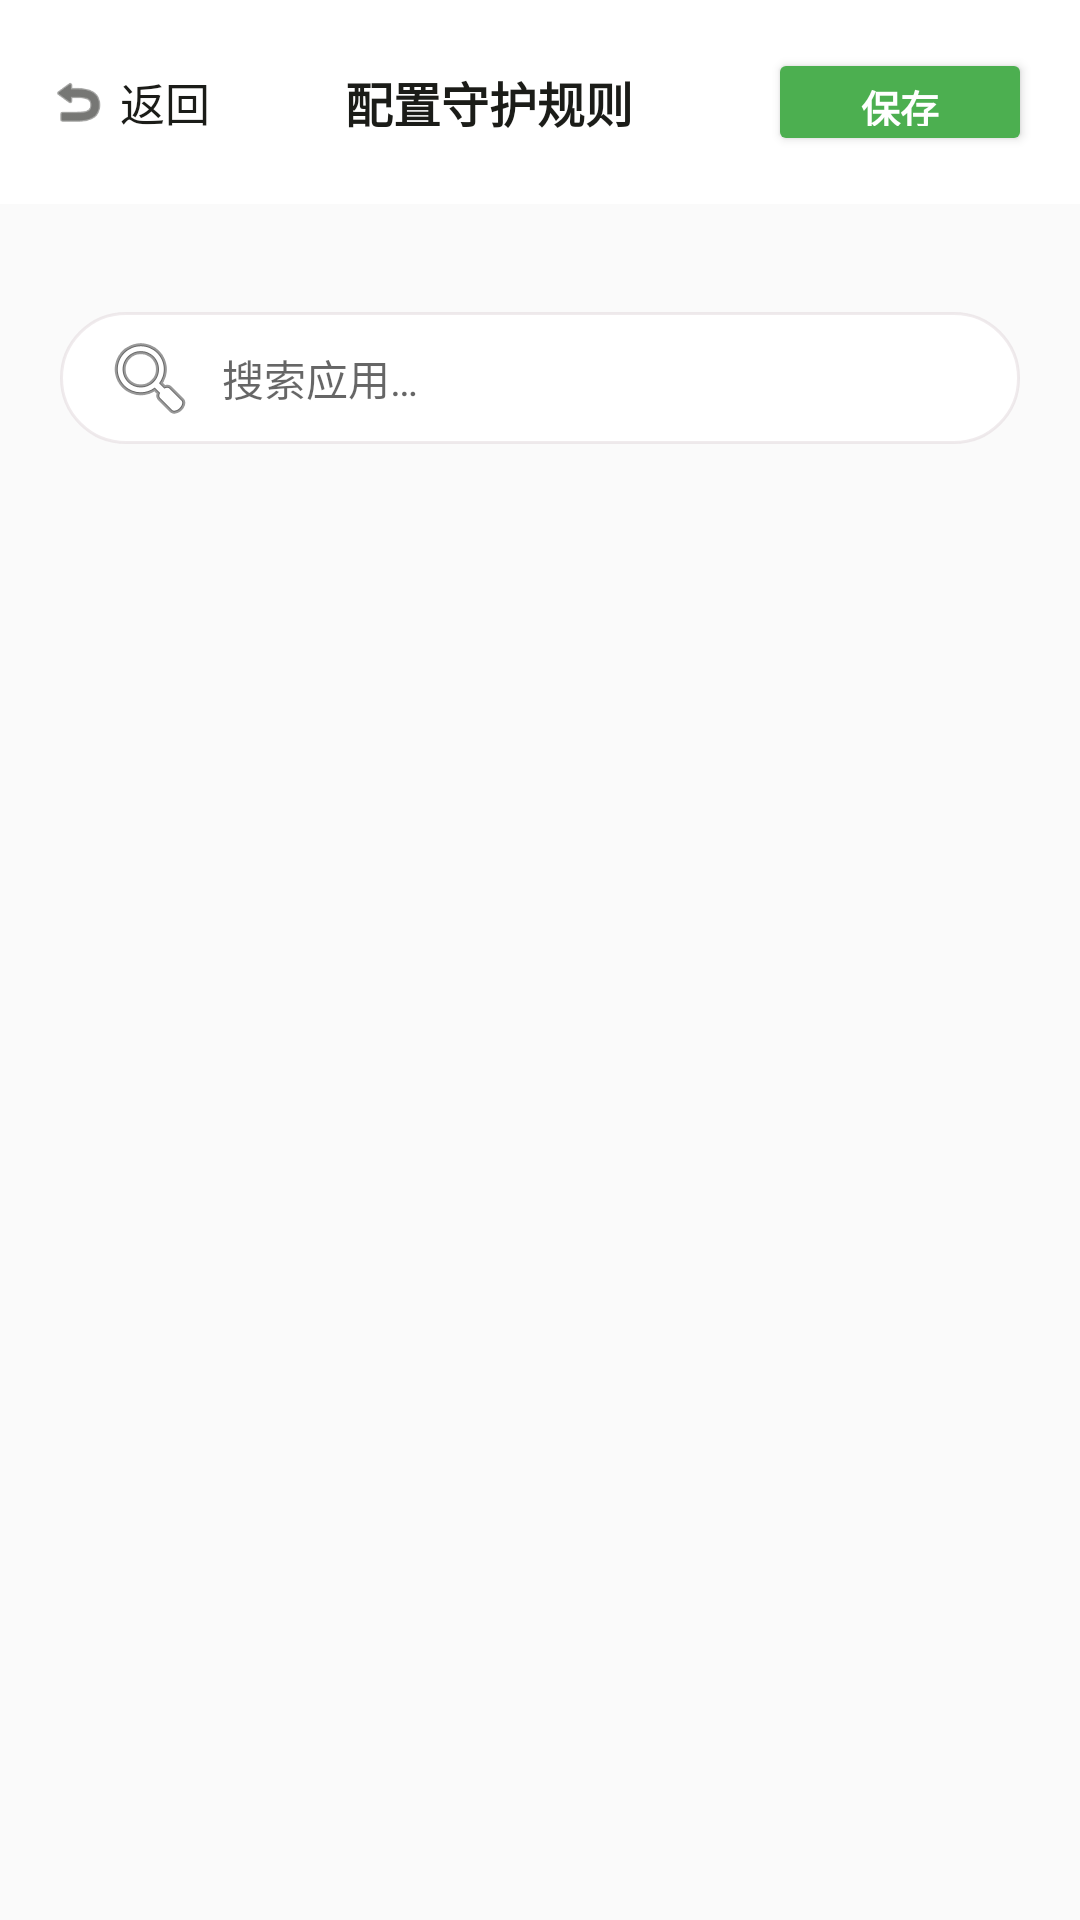

Point at icon controls on the screen. Image size 1080*1920, points as (x,y).
revert: (78,102)
